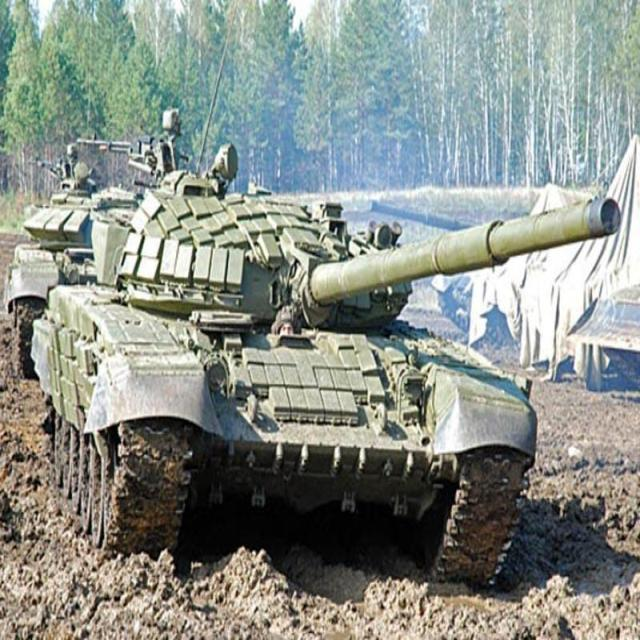MIL_MBT: (97, 173, 530, 566)
